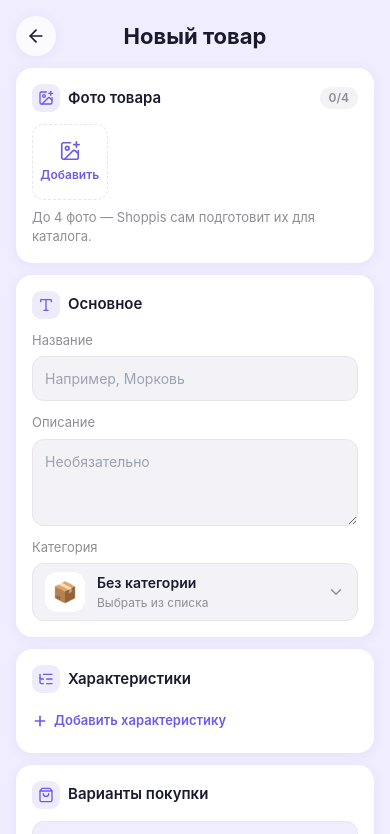
it: CreateProductView — копирование черновиков (docs/23 §3.1, §7) › создаёт независимую копию и переключается на неё
In the field with placeholder "Например, Морковь": [195, 378] box [32,356,358,401], type "Морковь"
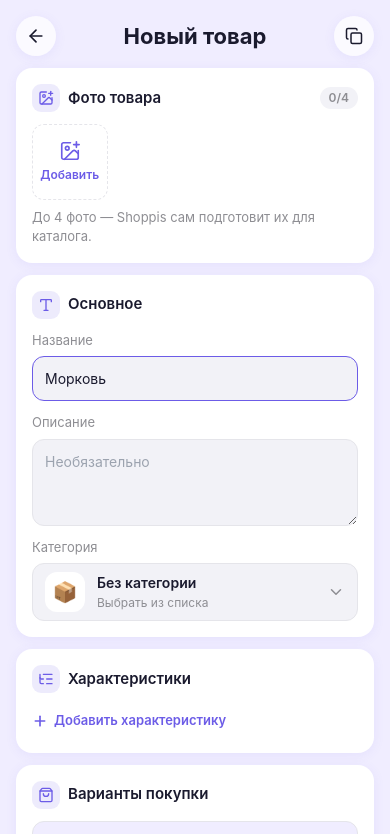
Click the button named "Создать копию": [354, 36] box [334,16,374,56]
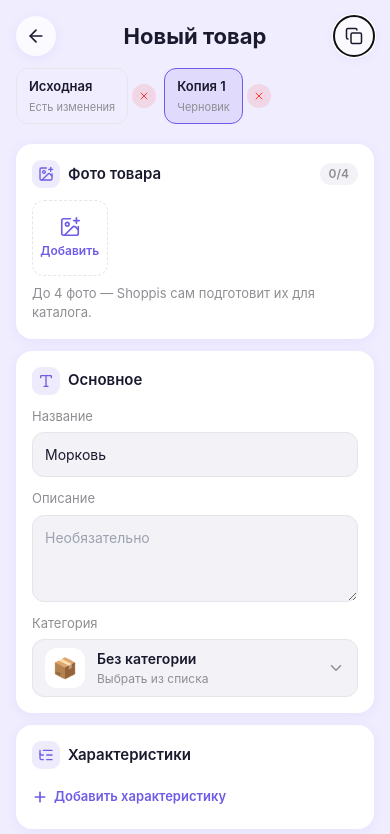
Now the field with placeholder "Например, Морковь" holds "Морковь", box [32,432,358,477]
Now the text "Исходная" is shown, box [29,77,92,96]
Now the text "Копия 1" is shown, box [177,77,226,96]
